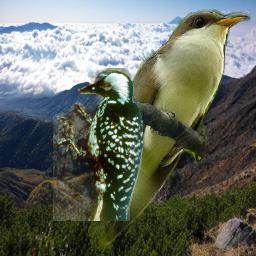Cuckoo: (85, 9, 251, 252)
Woodpecker: (53, 68, 143, 221)
